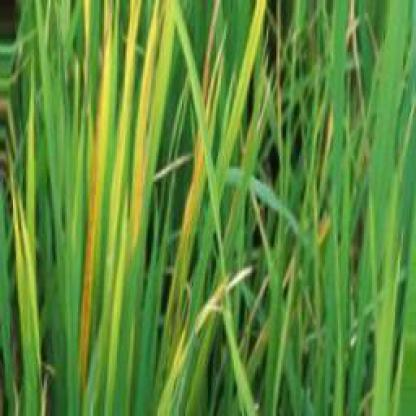Tungro: (158, 30, 224, 316), (72, 3, 119, 391), (126, 3, 170, 255)
